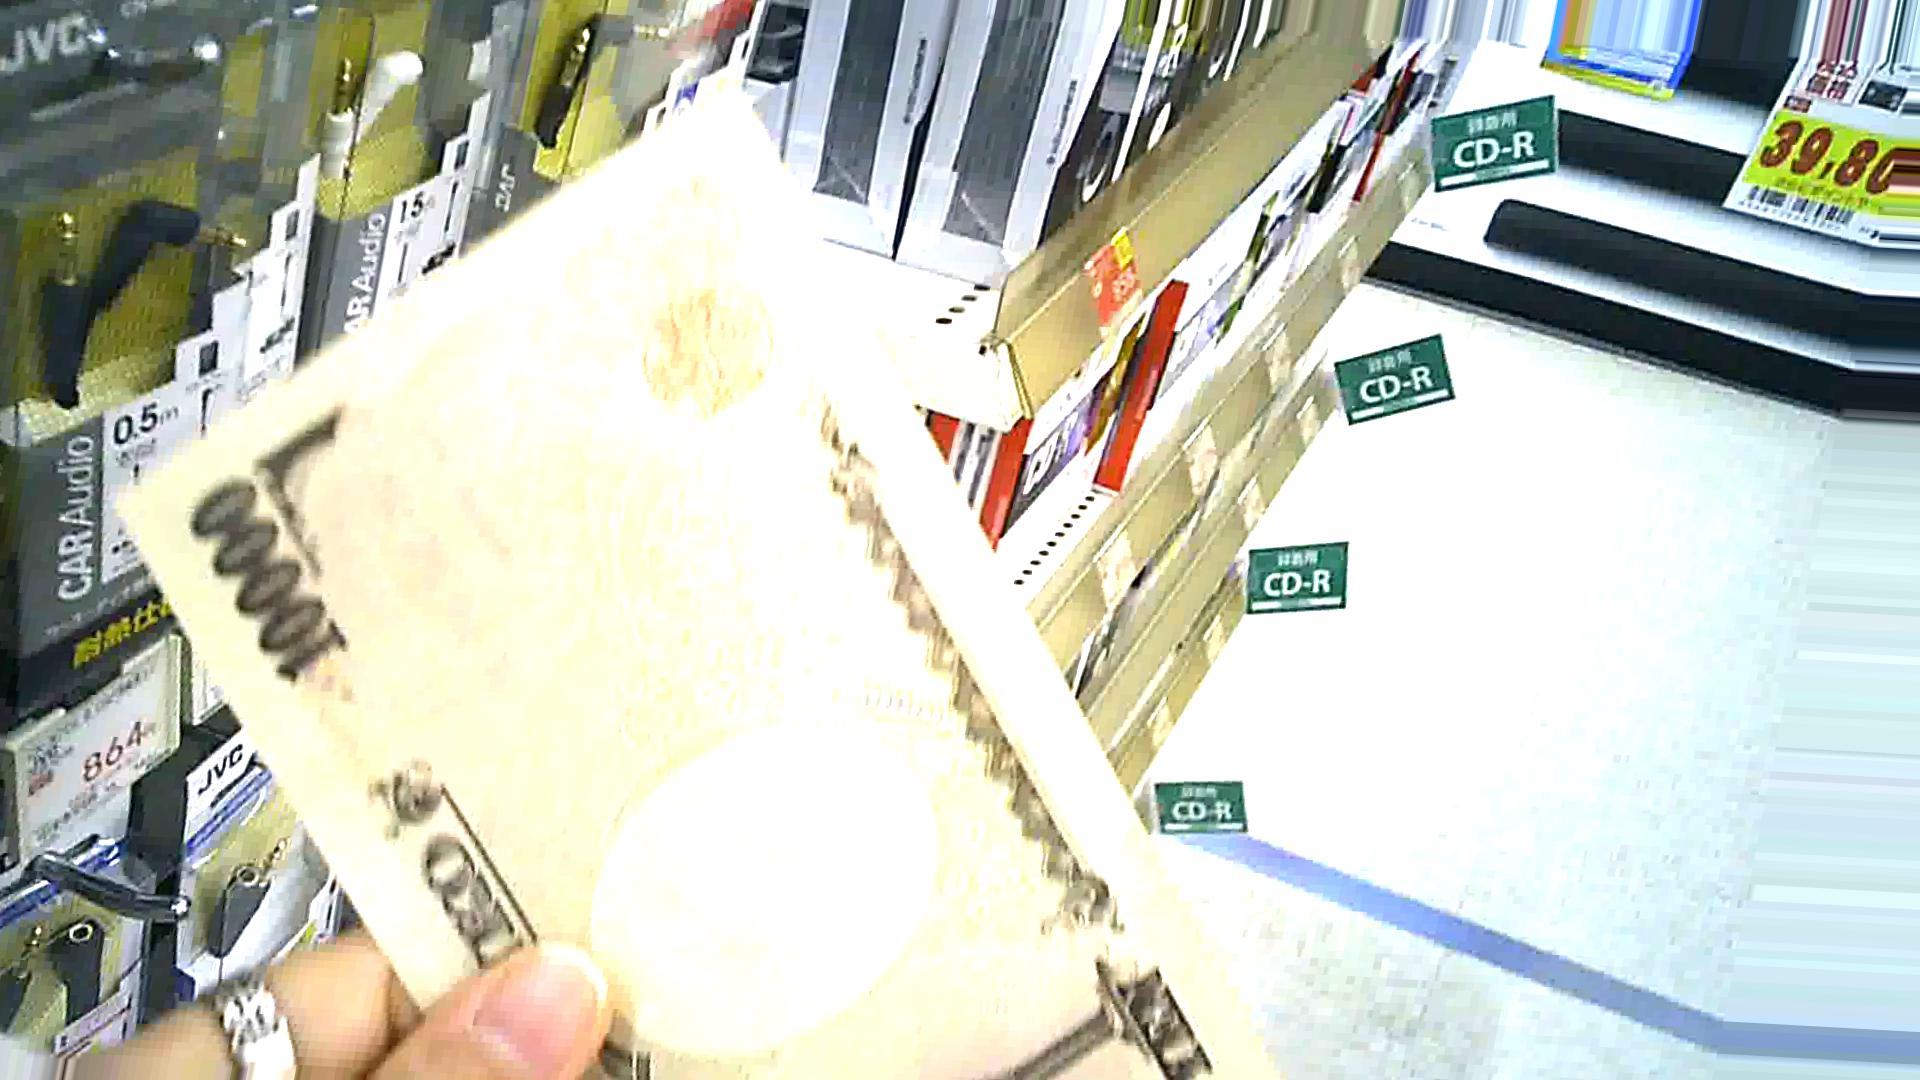10,000 Yen: (135, 175, 1228, 1079)
